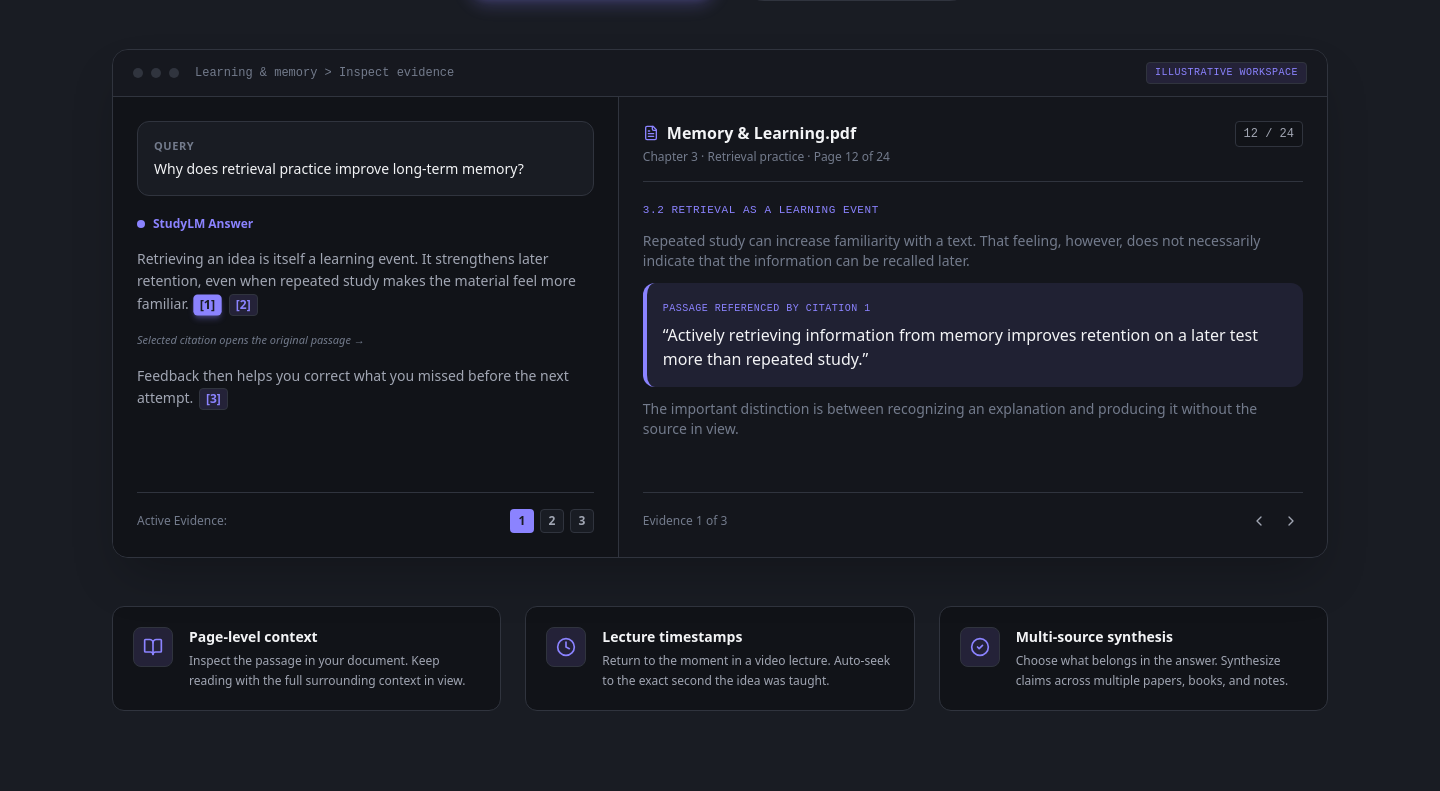
Test: Challenger Empirical Stress-Test: Hero Preview Card & FAQ Accordions › Hero Preview Card: Adversarial Verification › adversarial_test_citation_switching_across_all_triggers_and_wraparound
The width and height of the screenshot is (1440, 791).
Earlier steps of the test are not shown.
(page scrolled)
Check: the heading with test id "hero-inspector-source" reads "Memory & Learning.pdf", box [667,122,856,144]
Check: the text with test id "hero-inspector-quote" shows "Actively retrieving information", box [663,324,1258,370]
Click the button named "Previous Citation". click: (1259, 521)
box: [1247,509,1271,533]
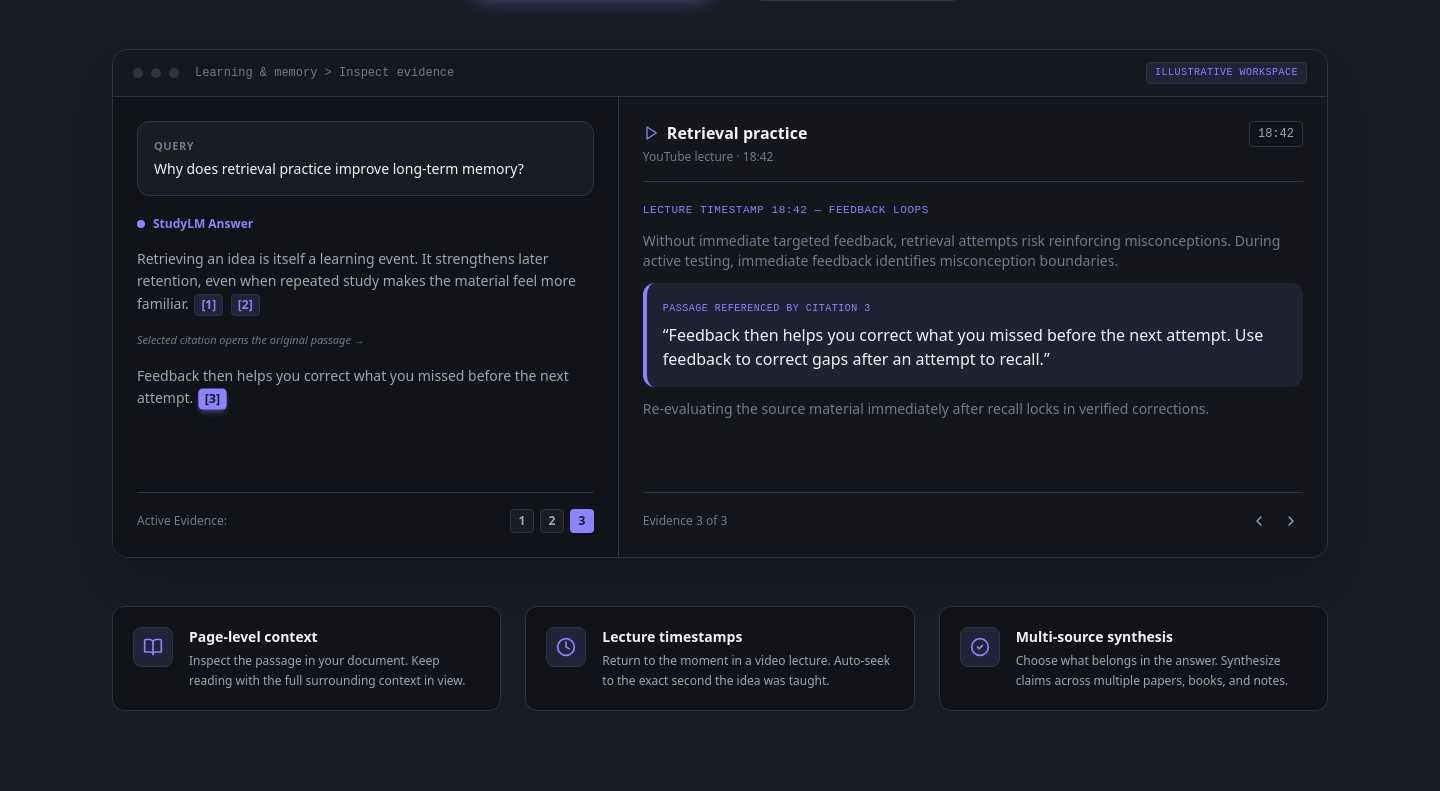
Check: the heading with test id "hero-inspector-source" reads "Retrieval practice", box [667,122,807,144]
Check: the text with test id "hero-inspector-quote" shows "Feedback then helps you correct", box [663,324,1263,370]
Click the button named "Previous Citation". click: (1259, 521)
box: [1247,509,1271,533]
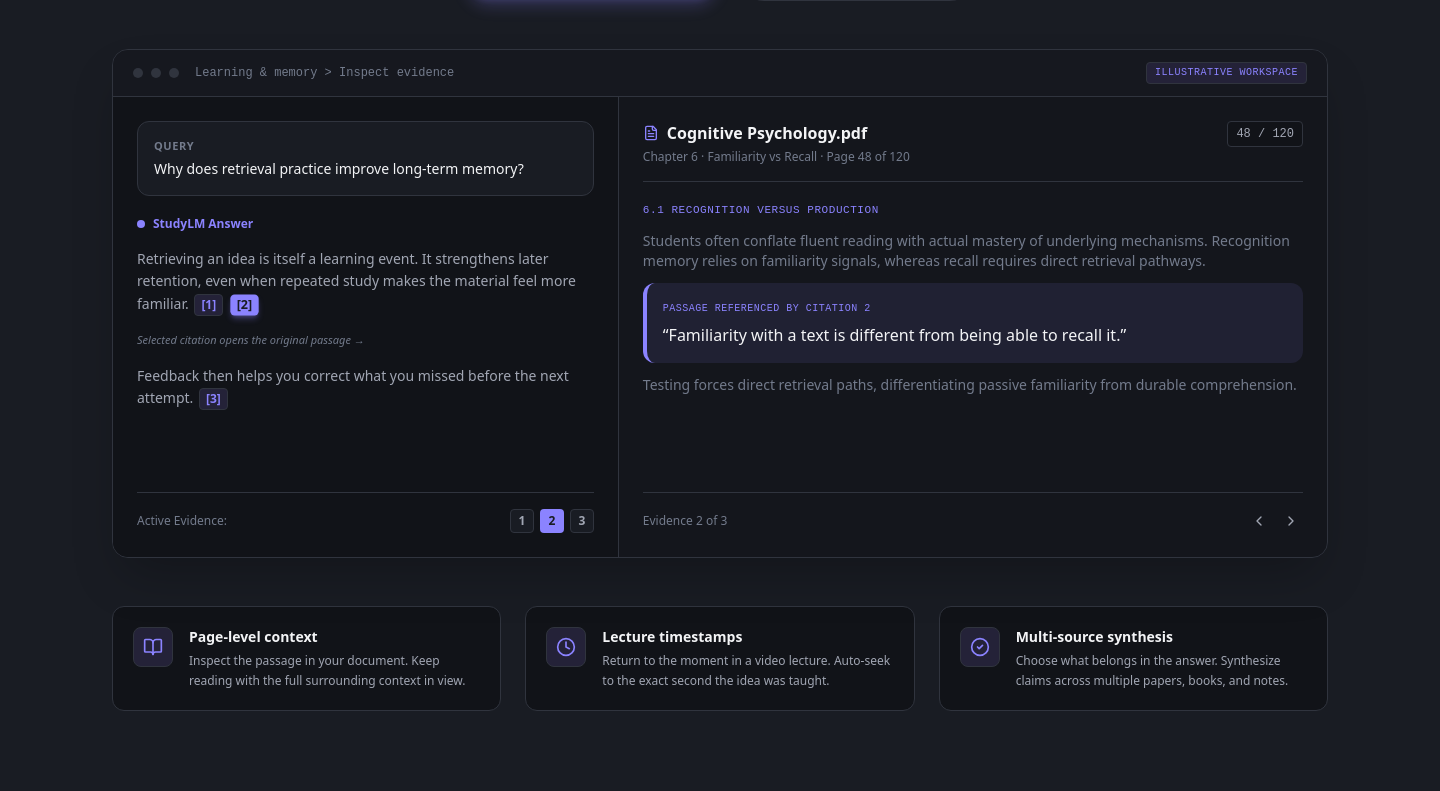
Check: the heading with test id "hero-inspector-source" reads "Cognitive Psychology.pdf", box [667,122,867,144]
Check: the text with test id "hero-inspector-quote" shows "Familiarity with a text", box [663,324,1126,346]
Click the button named "Previous Citation". click: (1259, 521)
box: [1247,509,1271,533]
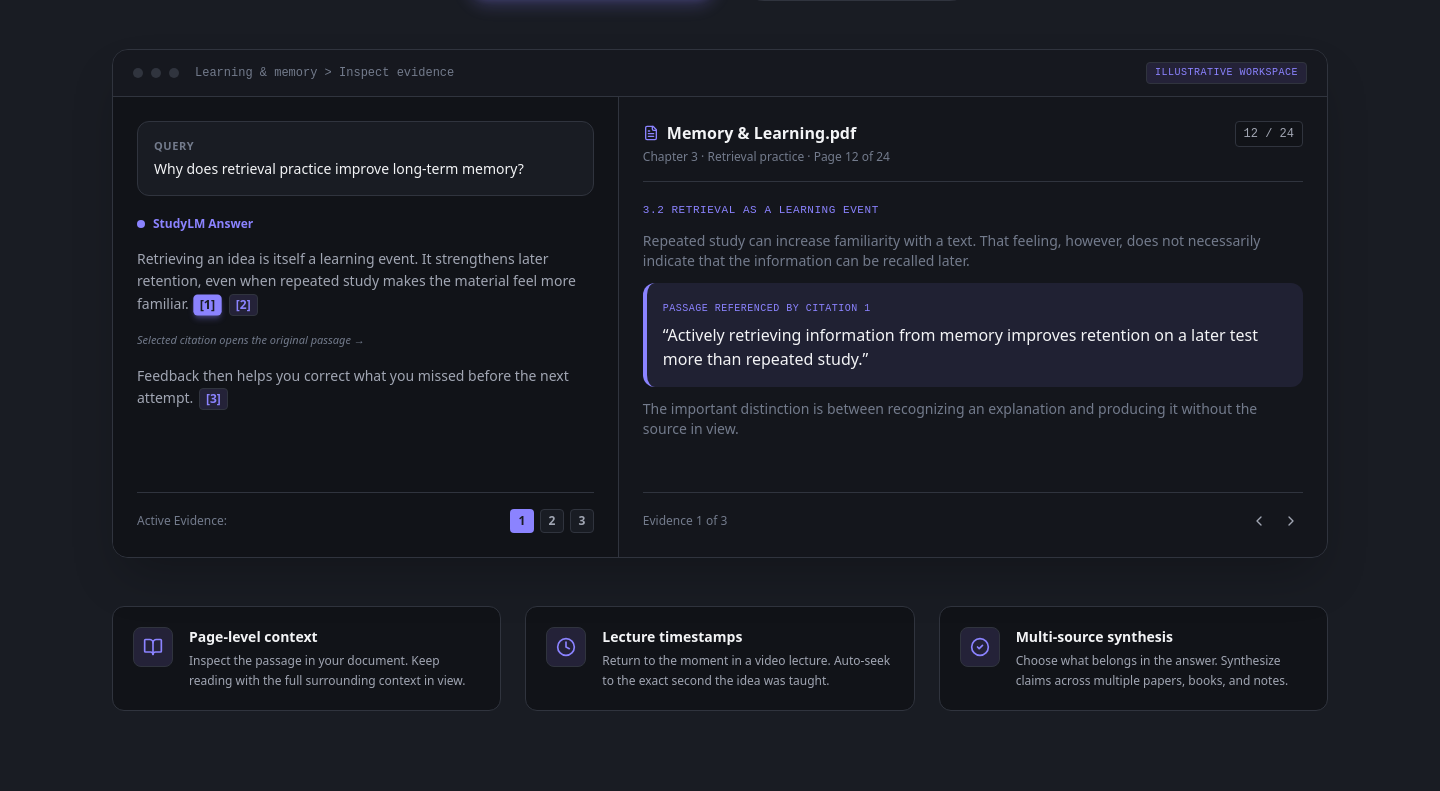
Check: the heading with test id "hero-inspector-source" reads "Memory & Learning.pdf", box [667,122,856,144]
Check: the text with test id "hero-inspector-quote" shows "Actively retrieving information", box [663,324,1258,370]
Click the button with test id "hero-citation-pill-2". click: (552, 521)
box: [540,509,564,533]
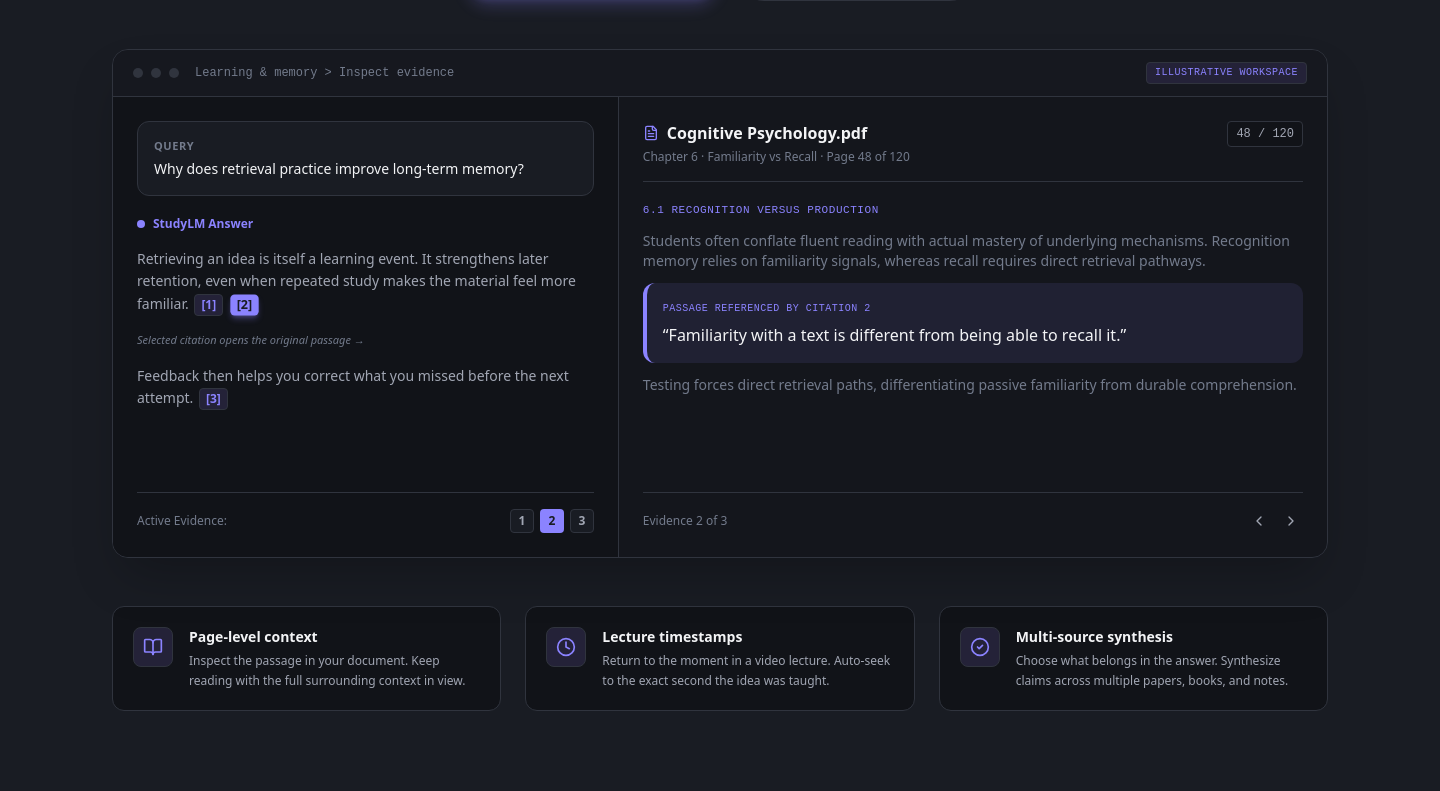
Check: the heading with test id "hero-inspector-source" reads "Cognitive Psychology.pdf", box [667,122,867,144]
Click the button with test id "hero-citation-pill-3". click: (582, 521)
box: [570,509,594,533]
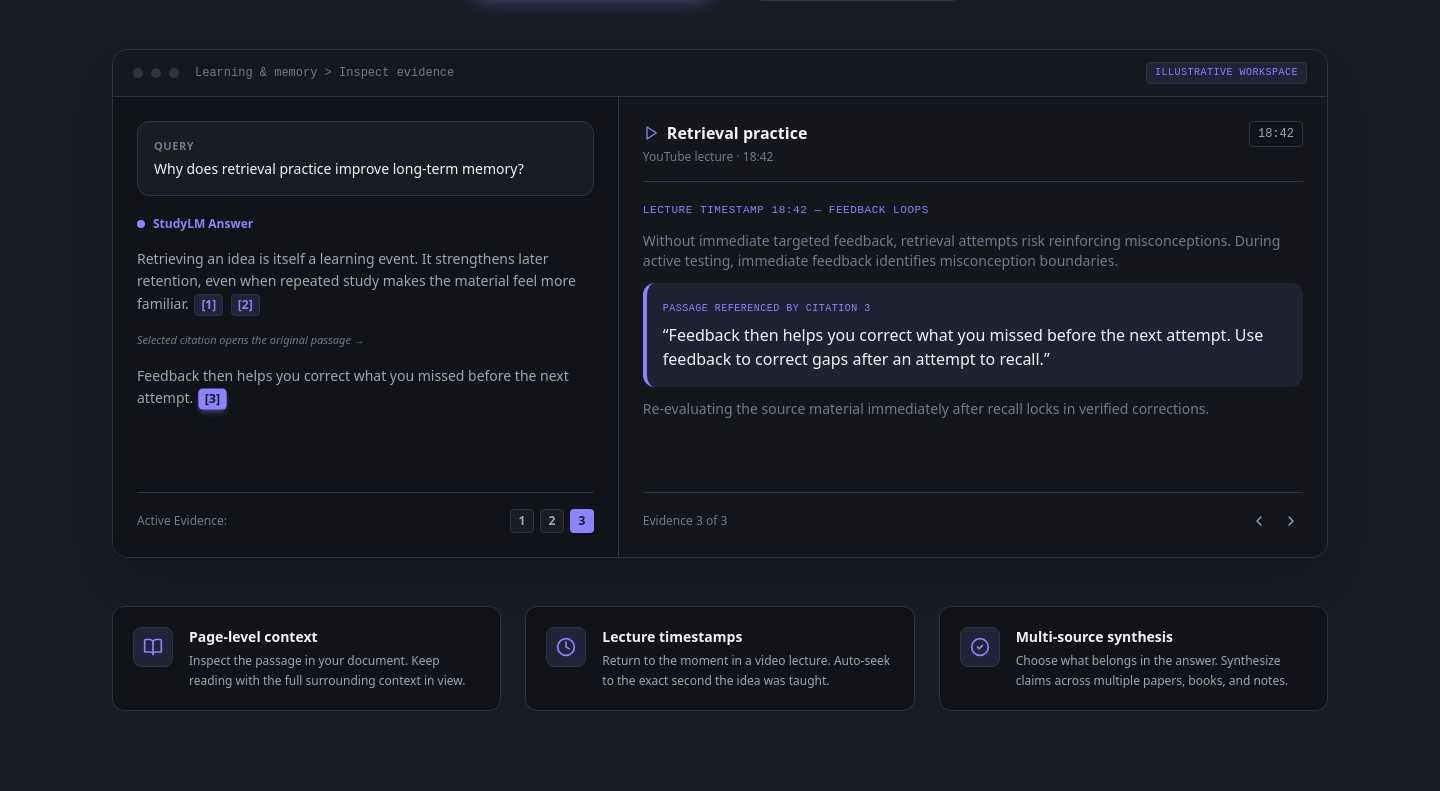
Check: the heading with test id "hero-inspector-source" reads "Retrieval practice", box [667,122,807,144]
Click the button with test id "hero-citation-pill-1". click: (522, 521)
box: [510,509,534,533]
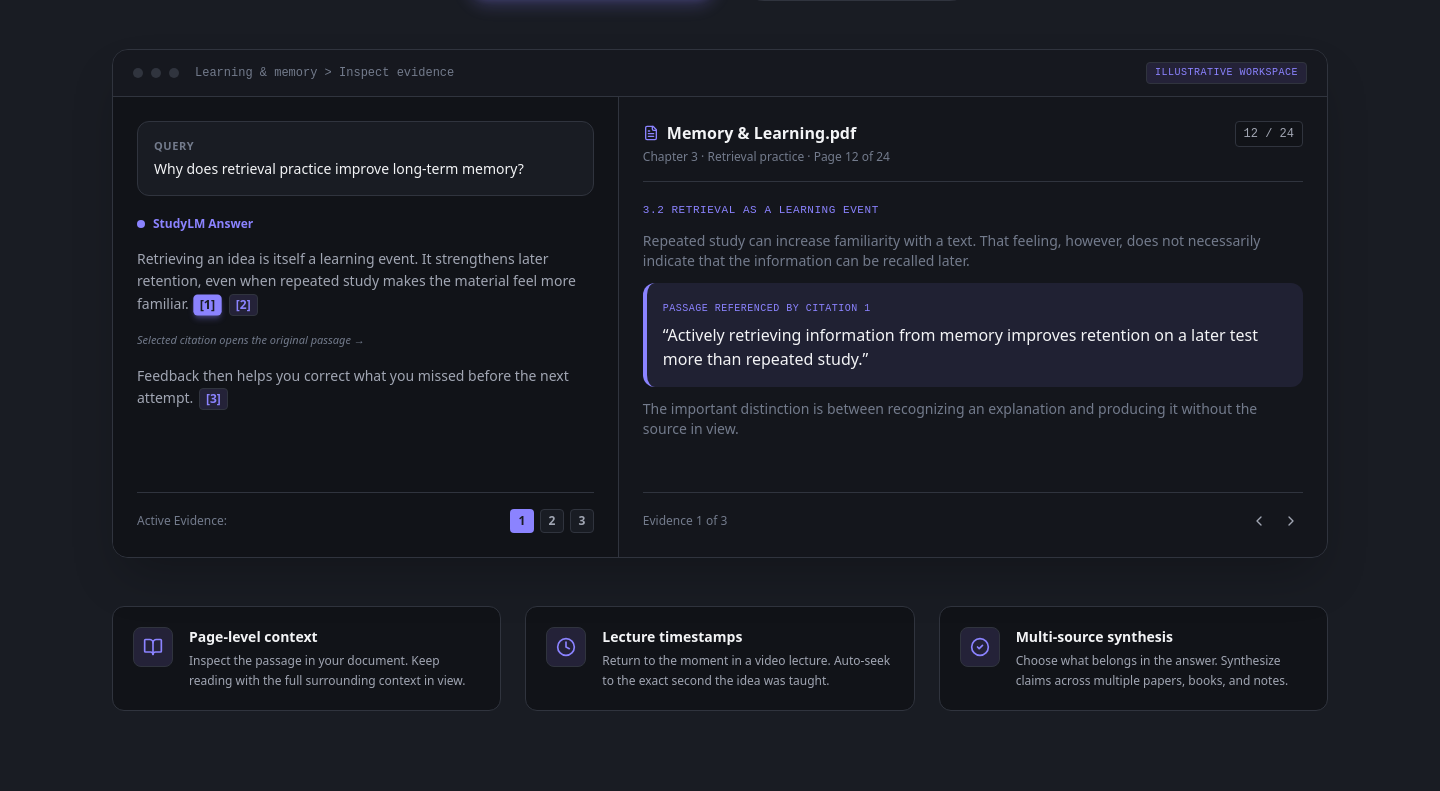
Check: the heading with test id "hero-inspector-source" reads "Memory & Learning.pdf", box [667,122,856,144]
